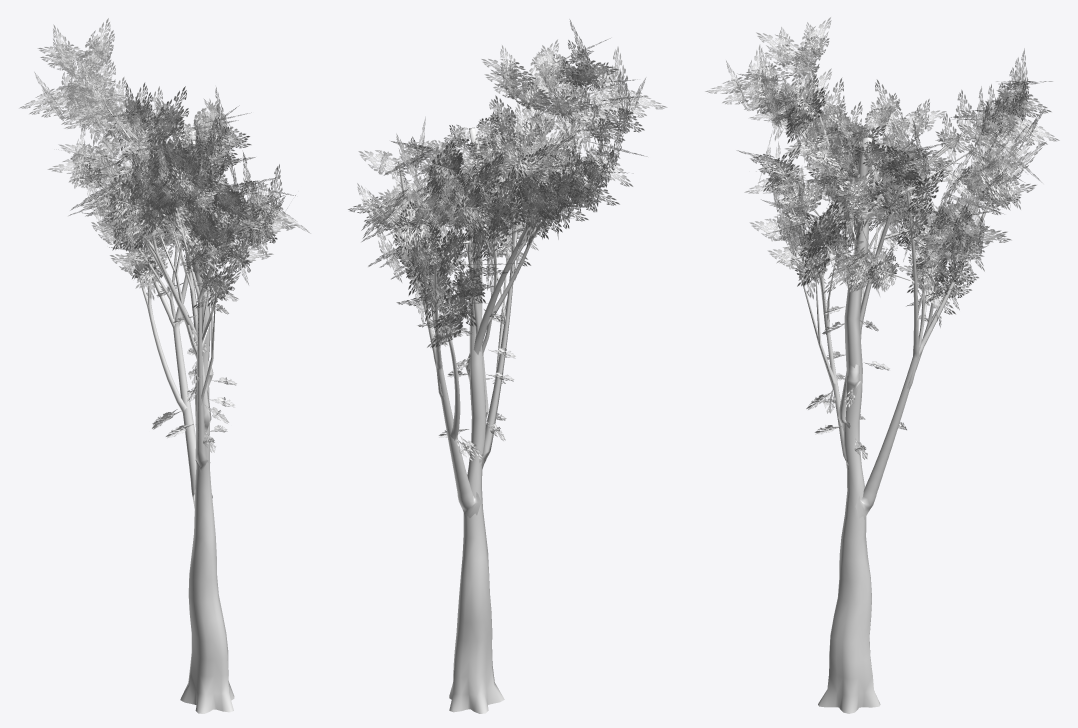
Rendered from TallTree1.glb.
3 views of the same model, side by side, from view 1: azimuth 30°, elevation 25°; view 2: azimuth 150°, elevation 25°; view 3: azimuth 270°, elevation 25° (orthographic). The views are drawn at different scales.
Parts seen in each view (by area): view 1: sprite_0097_1.001, _0.001, sprite_0094_2.001; view 2: sprite_0097_1.001, _0.001, sprite_0094_2.001; view 3: sprite_0097_1.001, _0.001, sprite_0094_2.001.
Boxes of the visible parts, <box> form: sprite_0097_1.001: <box>19,18,310,308</box>; _0.001: <box>88,68,249,713</box>; sprite_0094_2.001: <box>116,135,236,452</box>; sprite_0097_1.001: <box>348,19,667,347</box>; _0.001: <box>397,84,608,713</box>; sprite_0094_2.001: <box>431,141,524,460</box>; sprite_0097_1.001: <box>705,17,1059,327</box>; _0.001: <box>780,65,1002,713</box>; sprite_0094_2.001: <box>806,142,943,459</box>.
Size of the model in its own units: 2.3 by 5.57 by 2.82.
Materials: 3 (2 with a texture image).
